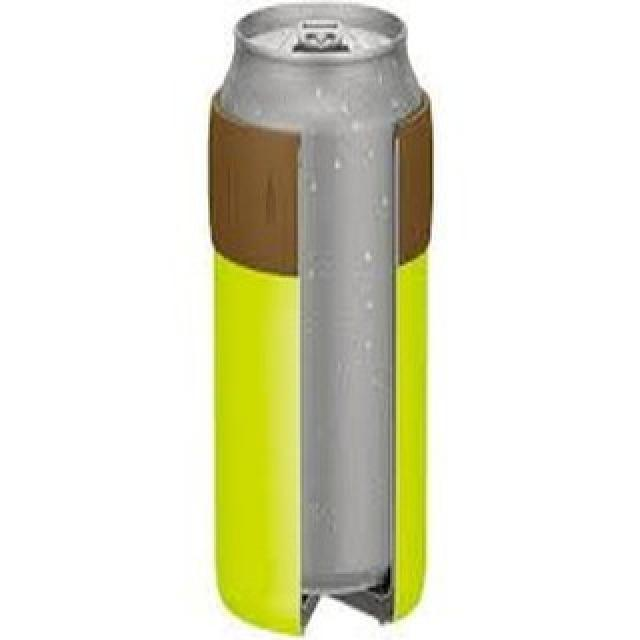can: (213, 2, 438, 622)
